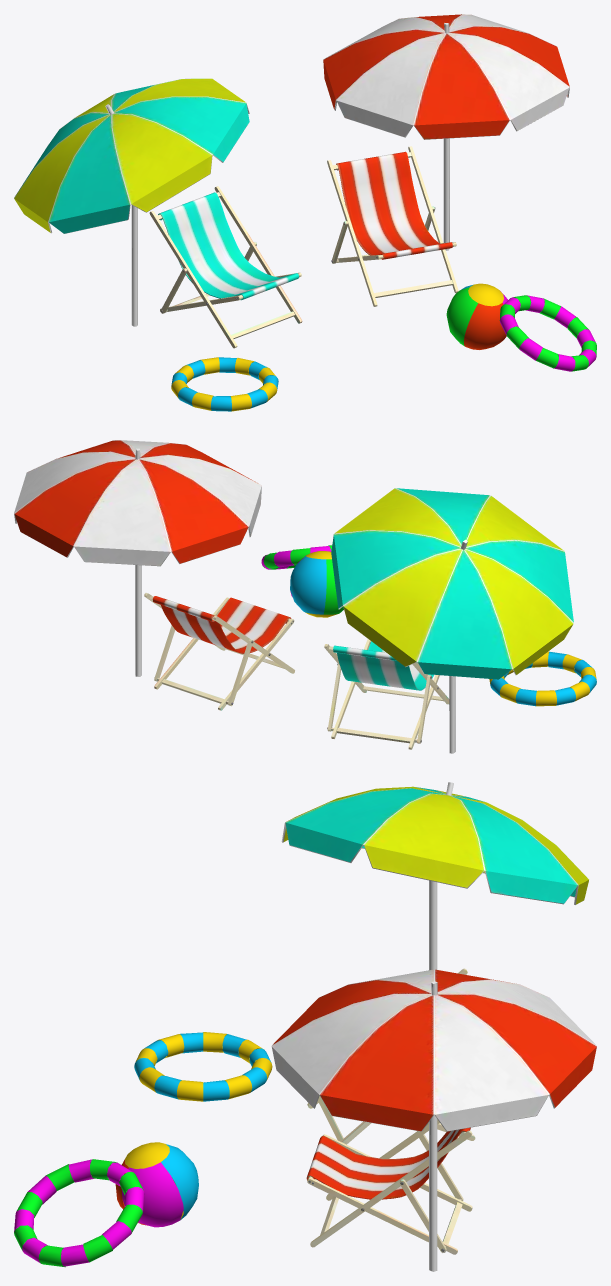
File: beachScene.glb
3 renders of one model, top to bottom at view 1: azimuth 30°, elevation 25°; view 2: azimuth 150°, elevation 25°; view 3: azimuth 270°, elevation 25°, orthographic. The views are drawn at different scales.
Visible parts, largest first — view 1: UmbrellaTop2_BeachScene_Mat_0, Umbrella_Poll2_Pipe_0, Floatie_Ball3_0, Floatie1_Ball1_0, Floatie_Ball5_0, Floatie1_Ball2_0, BeachBall_Ball4_0; view 2: UmbrellaTop2_BeachScene_Mat_0, Umbrella_Poll2_Pipe_0, Floatie1_Ball2_0, Floatie1_Ball1_0, Floatie_Ball3_0, Floatie_Ball5_0; view 3: UmbrellaTop2_BeachScene_Mat_0, Floatie_Ball5_0, Umbrella_Poll2_Pipe_0, Floatie1_Ball2_0, Floatie1_Ball1_0, Floatie_Ball3_0.
Part boxes in pixels (x1,y1,x2,y2): UmbrellaTop2_BeachScene_Mat_0: [14, 14, 569, 348]; Umbrella_Poll2_Pipe_0: [14, 14, 569, 326]; Floatie_Ball3_0: [446, 287, 596, 371]; Floatie1_Ball1_0: [171, 283, 503, 411]; Floatie_Ball5_0: [500, 291, 596, 371]; Floatie1_Ball2_0: [171, 284, 473, 411]; BeachBall_Ball4_0: [464, 303, 506, 349]; UmbrellaTop2_BeachScene_Mat_0: [14, 440, 573, 749]; Umbrella_Poll2_Pipe_0: [14, 440, 573, 753]; Floatie1_Ball2_0: [290, 556, 596, 706]; Floatie1_Ball1_0: [305, 551, 596, 706]; Floatie_Ball3_0: [263, 545, 343, 614]; Floatie_Ball5_0: [261, 546, 331, 596]; UmbrellaTop2_BeachScene_Mat_0: [271, 786, 596, 1254]; Floatie_Ball5_0: [14, 1159, 183, 1266]; Umbrella_Poll2_Pipe_0: [272, 782, 596, 1271]; Floatie1_Ball2_0: [134, 1032, 271, 1219]; Floatie1_Ball1_0: [125, 1032, 272, 1219]; Floatie_Ball3_0: [14, 1159, 176, 1267].
Bounding box in the file's own units: 6 × 2.49 × 4.51.
7 materials, 1 textured.
